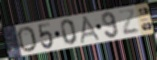0: (60, 18, 79, 46)
5: (37, 22, 54, 50)
9: (101, 11, 120, 40)
A: (80, 15, 103, 45)
O: (16, 26, 39, 54)
Z: (117, 8, 141, 36)
